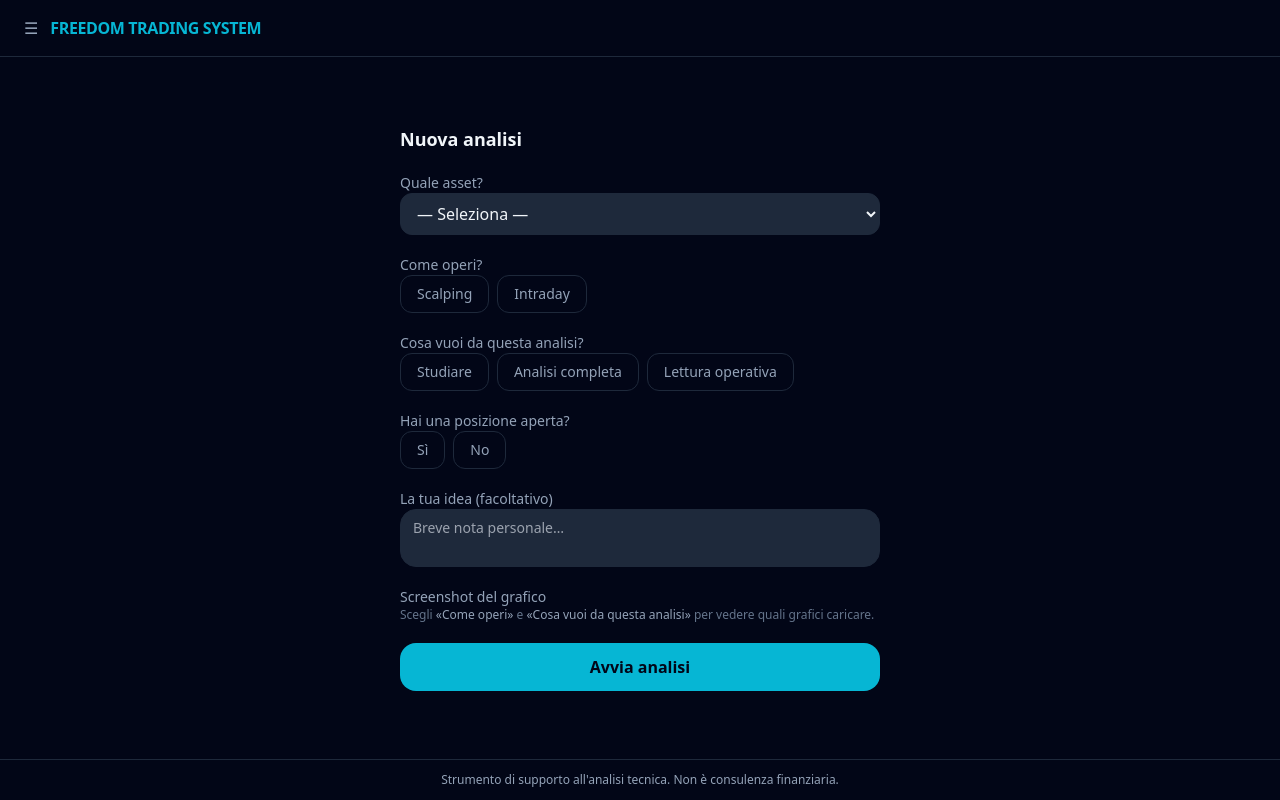
Scenario: Chat (pagina) › apre il menu e carica lo storico dall’hamburger
Click the button named "Apri menu": (31, 28) [24, 16, 38, 40]
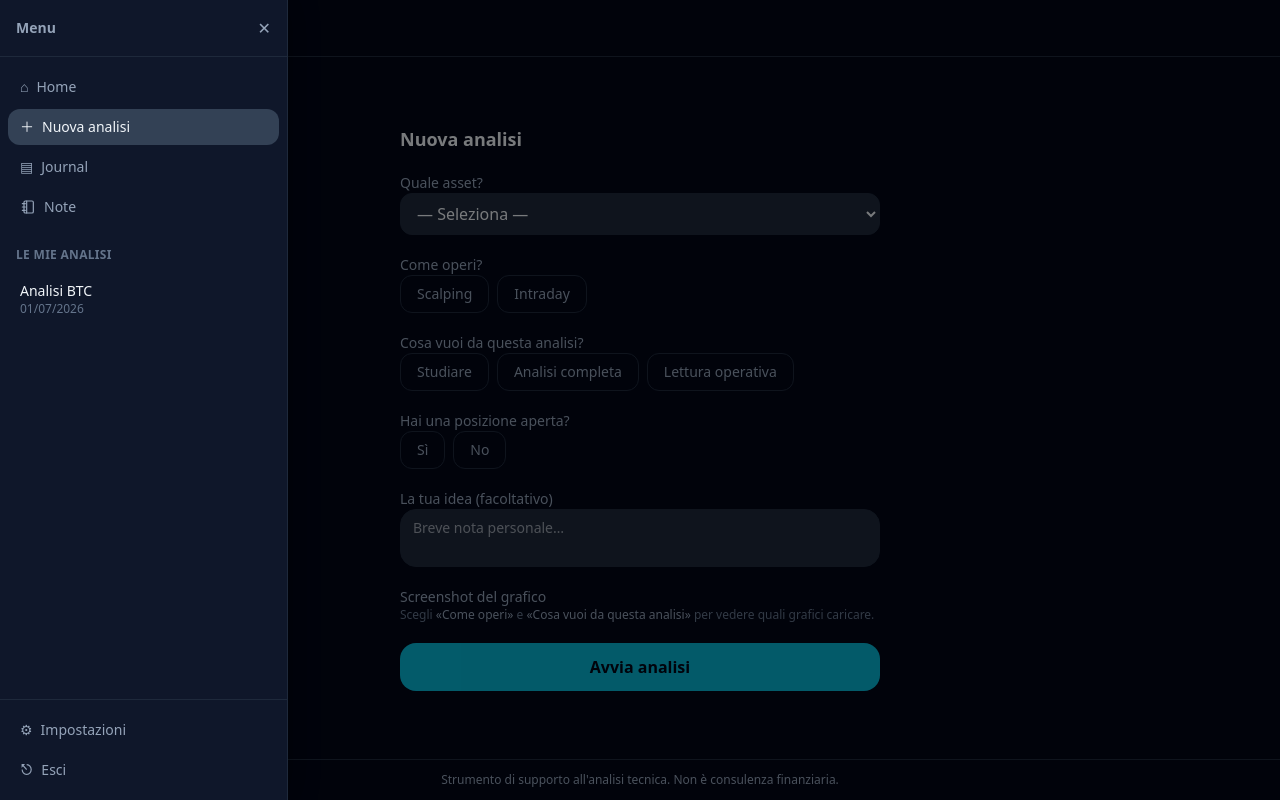
Expected: the element "Menu" is shown, [0, 0, 288, 799]
Expected: the text "Analisi BTC" is shown, [20, 281, 92, 300]
